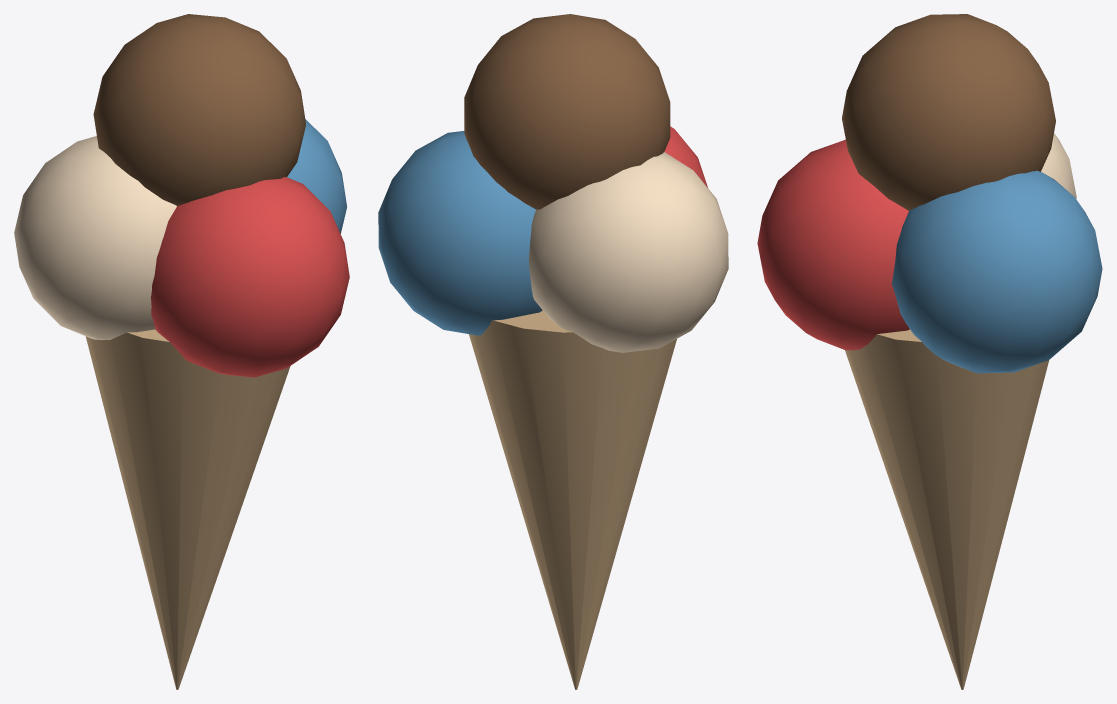
The model's file is SM_icecream_sign.fbx.
3 renders of one model, left to right at view 1: azimuth 30°, elevation 25°; view 2: azimuth 150°, elevation 25°; view 3: azimuth 270°, elevation 25°, orthographic. The views are drawn at different scales.
Visible parts, largest first — view 1: Object32438; view 2: Object32438; view 3: Object32438.
Part boxes in pixels (bbox=[...]): Object32438: bbox=[14, 14, 349, 689]; Object32438: bbox=[378, 14, 728, 689]; Object32438: bbox=[757, 14, 1102, 689].
Size of the model in its own units: 94.54 by 190 by 88.16.
